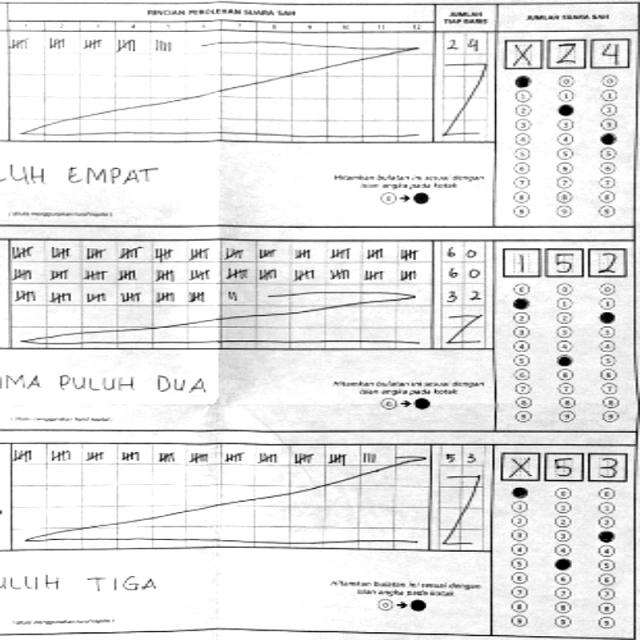Suara: (498, 34, 628, 72), (496, 449, 628, 485), (498, 244, 630, 278)
